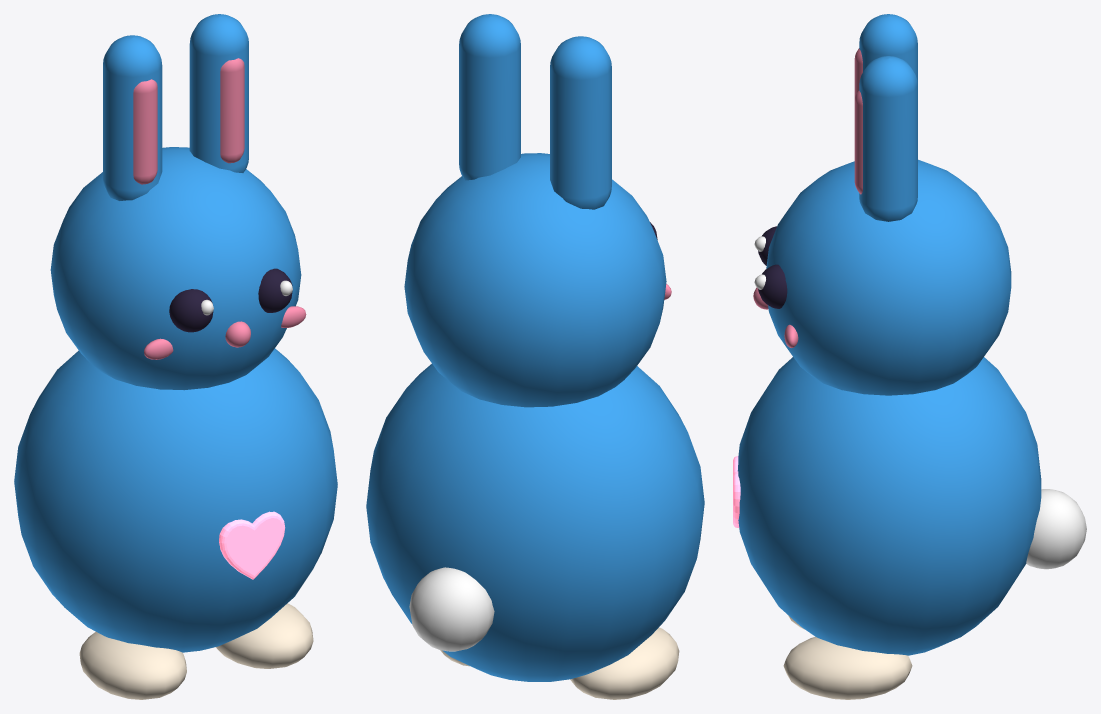
File: kim.glb
3 views of the same model, side by side, from view 1: azimuth 30°, elevation 25°; view 2: azimuth 150°, elevation 25°; view 3: azimuth 270°, elevation 25° (orthographic). The views are drawn at different scales.
Visible parts, largest first — view 1: body, pop, armL, KIM, armR, glow, eyeL, eyeR; view 2: body, pop, armL, KIM, armR; view 3: body, pop, armR, KIM, armL, eyeR.
Boxes of the visible parts, bbox=[...] form: body: bbox=[14, 348, 337, 652]; pop: bbox=[50, 147, 306, 390]; armL: bbox=[103, 35, 162, 200]; KIM: bbox=[79, 603, 313, 699]; armR: bbox=[189, 14, 248, 172]; glow: bbox=[219, 511, 285, 579]; eyeL: bbox=[169, 289, 213, 332]; eyeR: bbox=[258, 268, 292, 312]; body: bbox=[366, 364, 704, 681]; pop: bbox=[404, 153, 671, 407]; armL: bbox=[550, 36, 611, 209]; KIM: bbox=[409, 567, 679, 699]; armR: bbox=[459, 14, 520, 180]; body: bbox=[737, 357, 1041, 655]; pop: bbox=[753, 159, 1011, 395]; armR: bbox=[854, 56, 917, 221]; KIM: bbox=[783, 489, 1086, 699]; armL: bbox=[854, 14, 917, 99]; eyeR: bbox=[754, 264, 787, 308].
Size of the model in its own units: 1.44 by 3.06 by 1.57.
